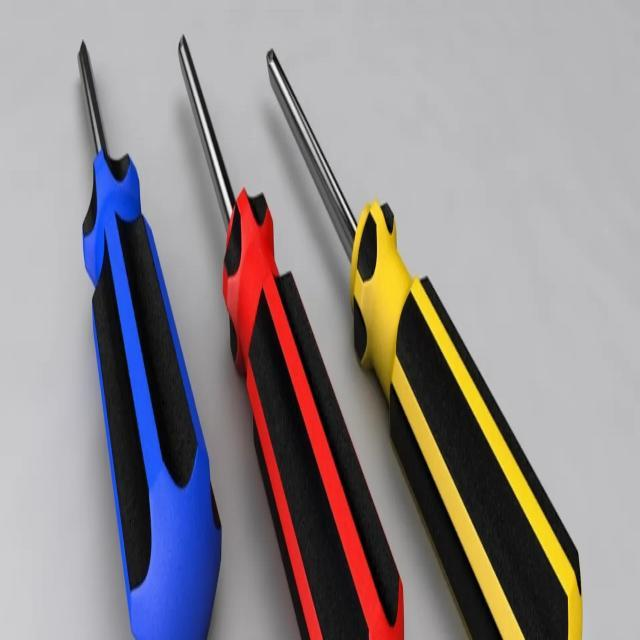screwdriver: (264, 38, 586, 640), (172, 19, 408, 640), (72, 16, 223, 640)
